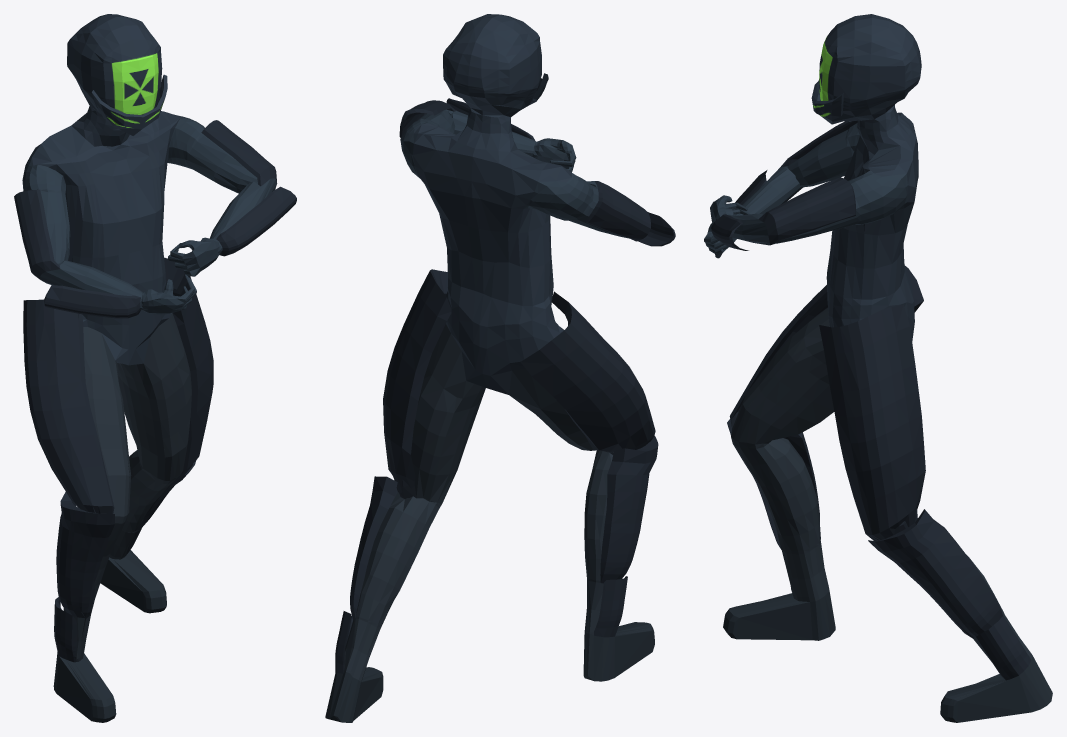
File: Bastion_Hit_Recover_000014.obj
The picture shows the model from 3 angles, left to right: view 1: azimuth 30°, elevation 25°; view 2: azimuth 150°, elevation 25°; view 3: azimuth 270°, elevation 25°; orthographic projection. The views are drawn at different scales.
Parts seen in each view (by area): view 1: Cube.002; view 2: Cube.002; view 3: Cube.002.
Boxes of the visible parts, x1,y1,x2,y2 form: Cube.002: (14, 14, 296, 722); Cube.002: (325, 14, 675, 722); Cube.002: (704, 14, 1052, 722).
Size of the model in its own units: 1.41 by 3.63 by 1.74.
